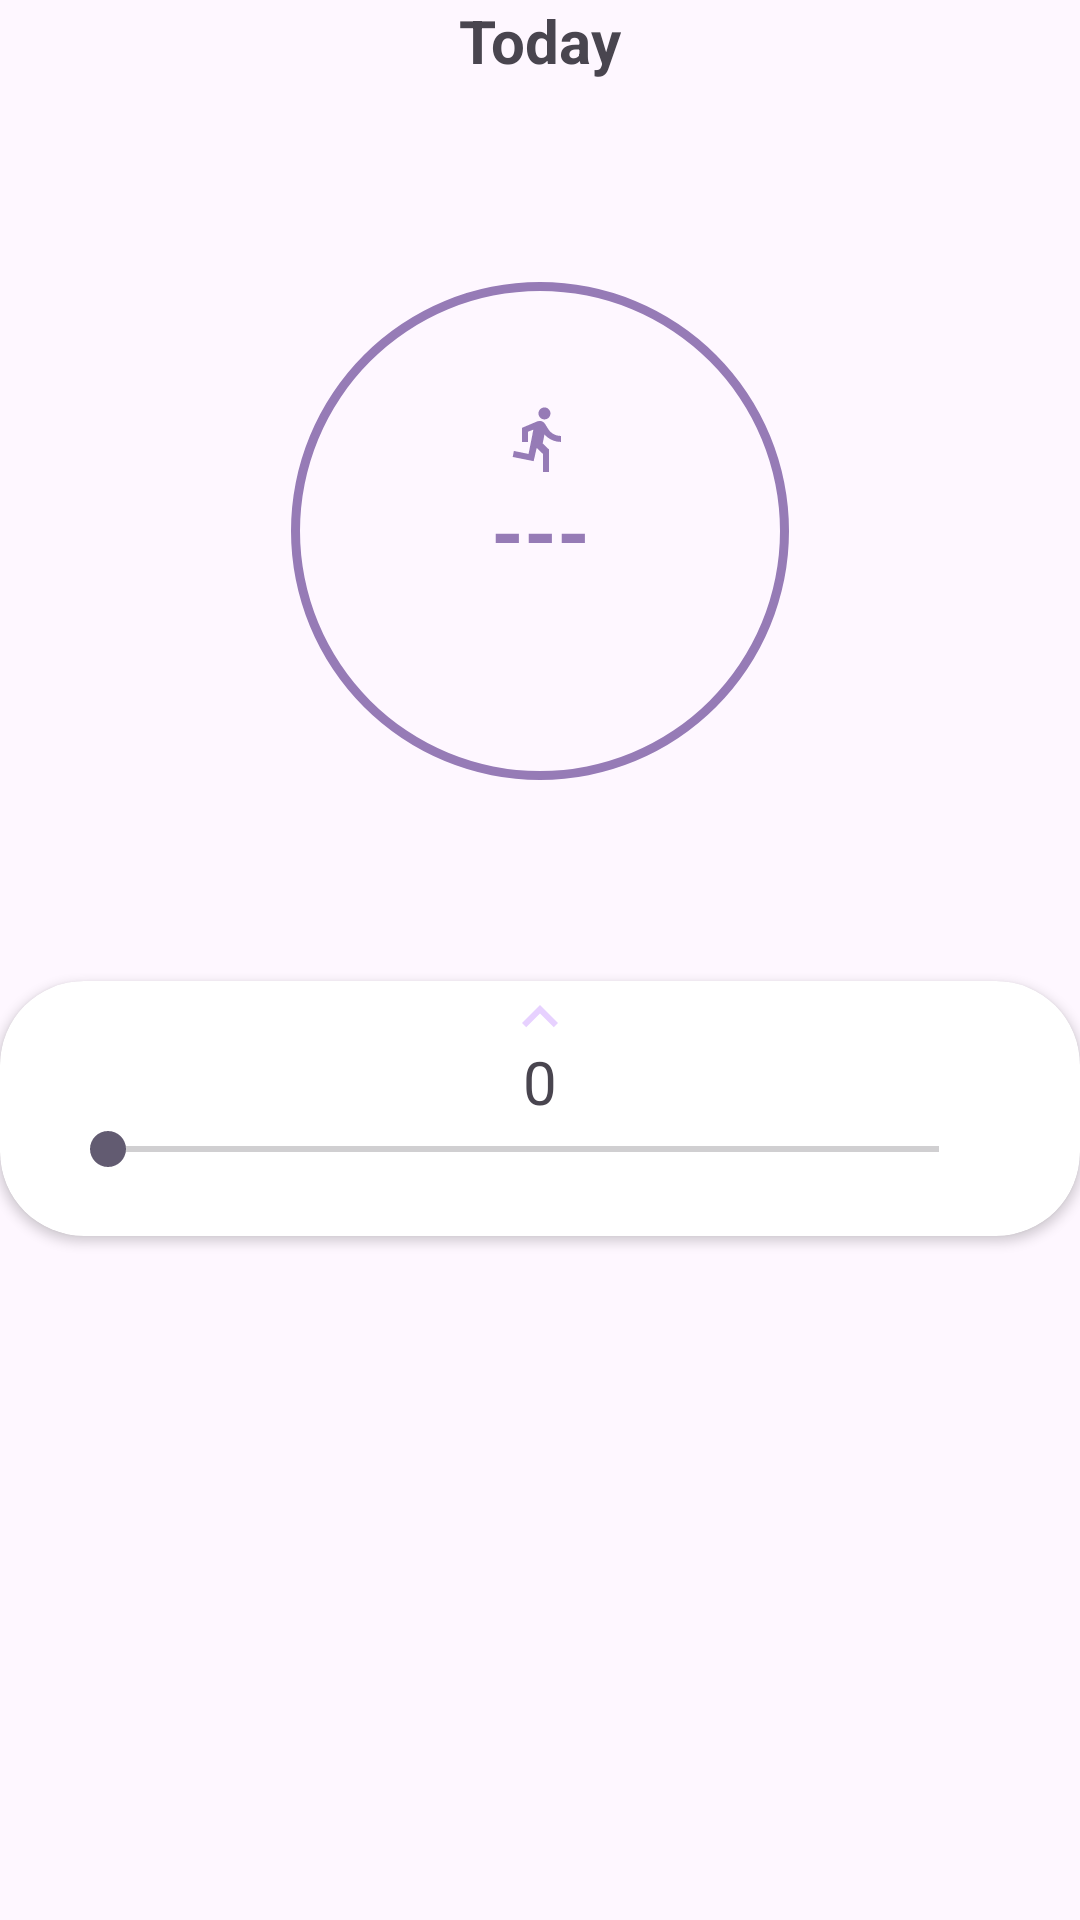

Locate icon controls on the screen. Image size 1080 × 1920, boxes as (x1, y1, x2, y2).
arrow up: (523, 1006, 557, 1027)
run: (512, 407, 561, 472)
